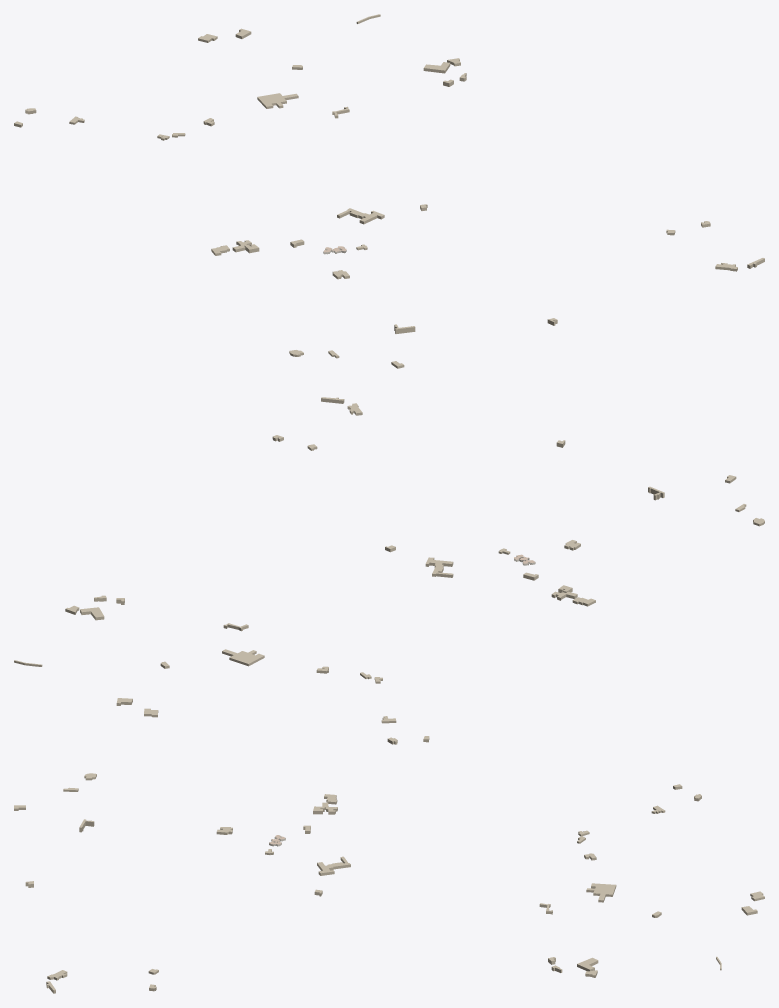
3 renders of one model, top to bottom at view 1: azimuth 30°, elevation 25°; view 2: azimuth 150°, elevation 25°; view 3: azimuth 270°, elevation 25°, orthographic. The views are drawn at different scales.
Size of the model in its own units: 1516 by 22.9 by 2233.
